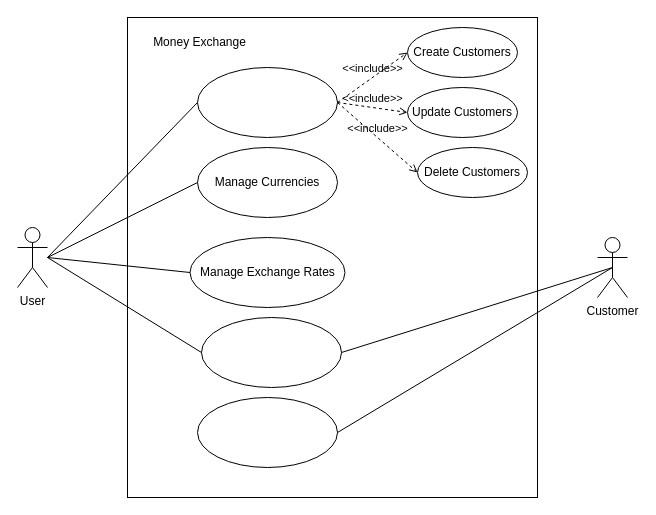
The diagram is 656 pixels wide and 515 high, and some of its shapes have lost their labels. The centre of each missing label's shape, as x and y in pixels:
"Manage Customers" belongs at pixel 267 102.
"Perform Transaction" belongs at pixel 267 432.
"View Exchange Rates" belongs at pixel 271 352.
